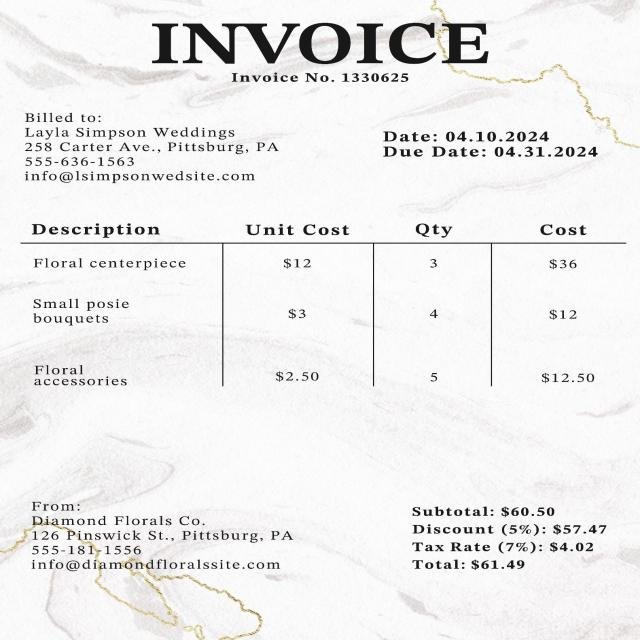paragraph: (22, 497, 298, 584), (22, 108, 290, 186), (139, 18, 490, 66), (411, 508, 608, 574), (384, 130, 599, 160), (223, 71, 417, 89)
table: (23, 219, 627, 394)
